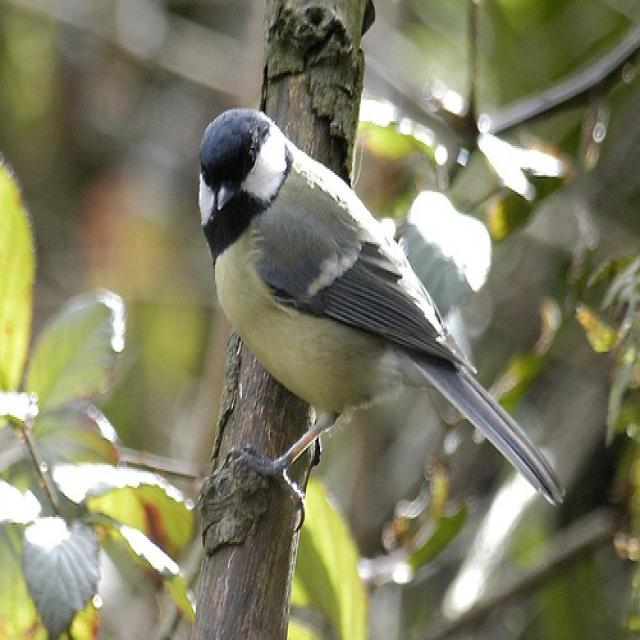bird: (191, 102, 571, 532)
